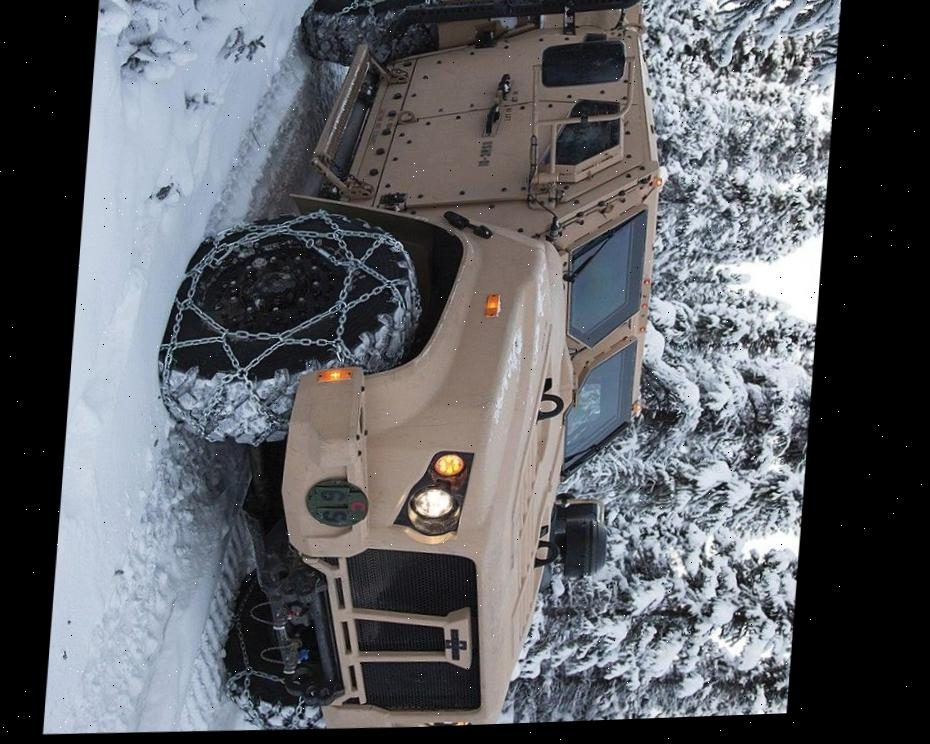armored_car: (131, 0, 676, 738)
